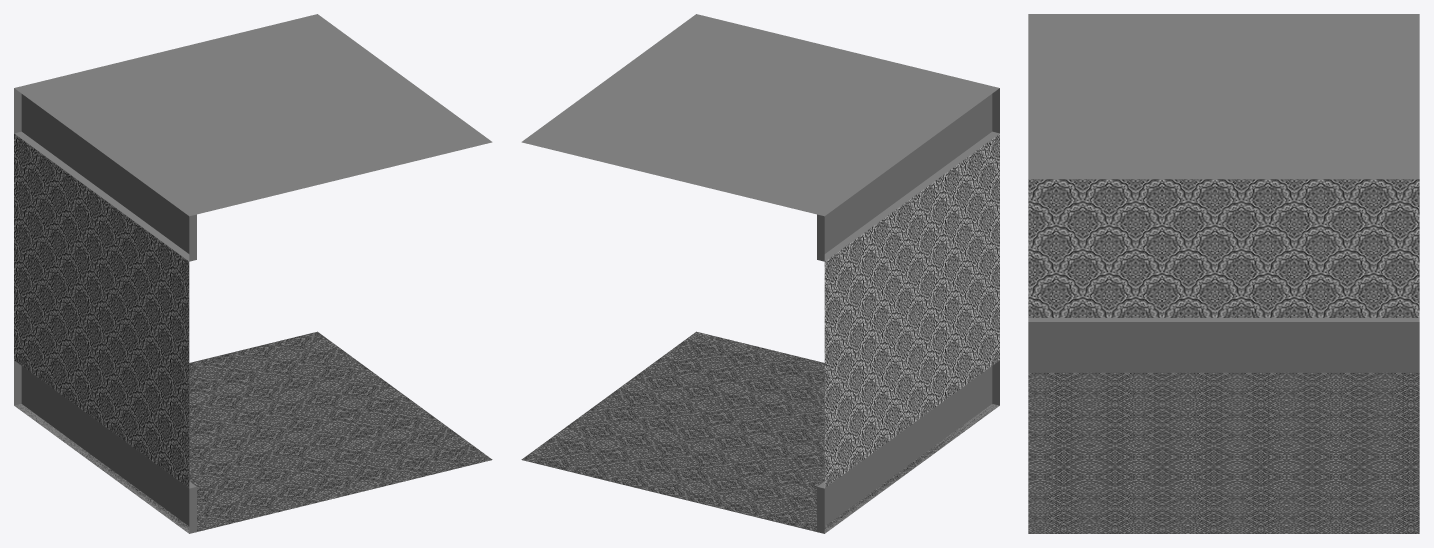
The model's file is Room_Wall.fbx.
The picture shows the model from 3 angles, left to right: view 1: azimuth 30°, elevation 25°; view 2: azimuth 150°, elevation 25°; view 3: azimuth 270°, elevation 25°; orthographic projection. The views are drawn at different scales.
Parts seen in each view (by area): view 1: Room_Wall; view 2: Room_Wall; view 3: Room_Wall.
Boxes of the visible parts, x1,y1,x2,y2 form: Room_Wall: (14,14,492,533); Room_Wall: (521,14,999,533); Room_Wall: (1028,14,1419,533).
Size of the model in its own units: 6 by 6 by 6.
Materials: 3 (2 with a texture image).
